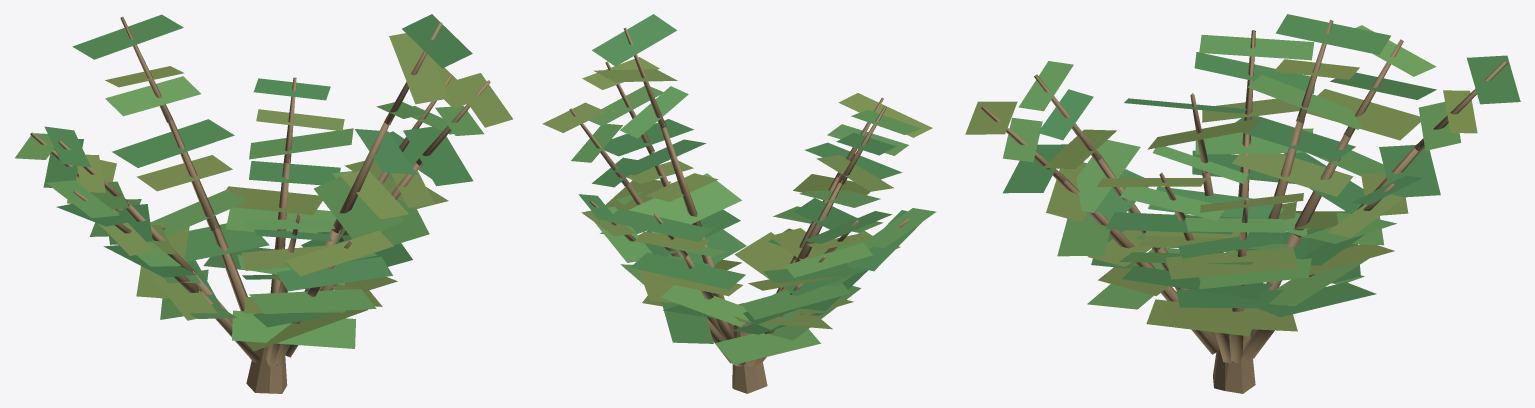
The model's file is bush_far.11502017.glb.
3 views of the same model, side by side, from view 1: azimuth 30°, elevation 25°; view 2: azimuth 150°, elevation 25°; view 3: azimuth 270°, elevation 25° (orthographic). The views are drawn at different scales.
Parts seen in each view (by area): view 1: bush; view 2: bush; view 3: bush.
Boxes of the visible parts, bbox=[...] form: bush: bbox=[15, 14, 512, 393]; bush: bbox=[542, 14, 936, 393]; bush: bbox=[965, 14, 1520, 393].
Bounding box in the file's own units: 1.2 × 1.01 × 1.35.
